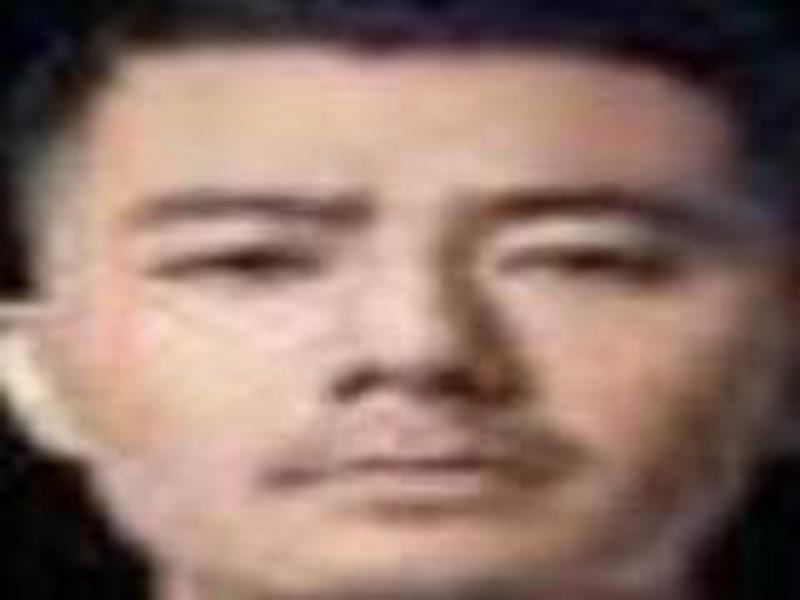without_mask: (26, 49, 782, 600)
